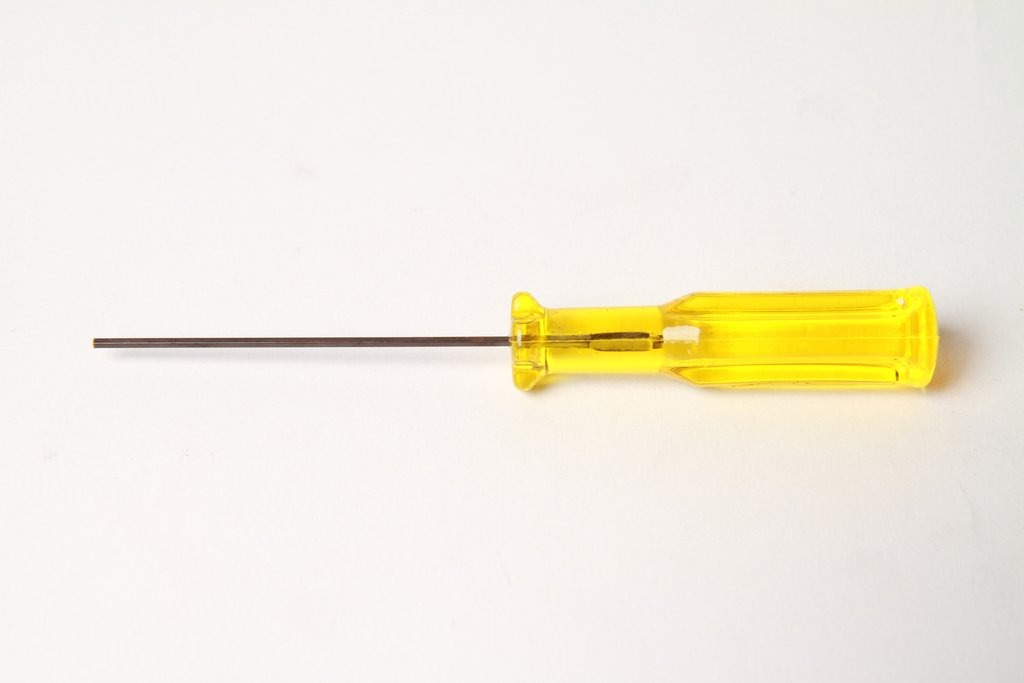screwdriver: (85, 285, 946, 395)
